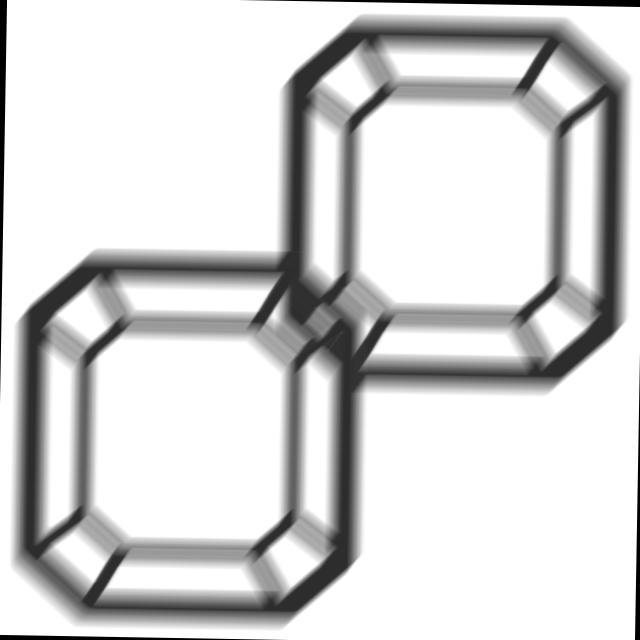emerald: (1, 234, 391, 637), (266, 8, 639, 402)
